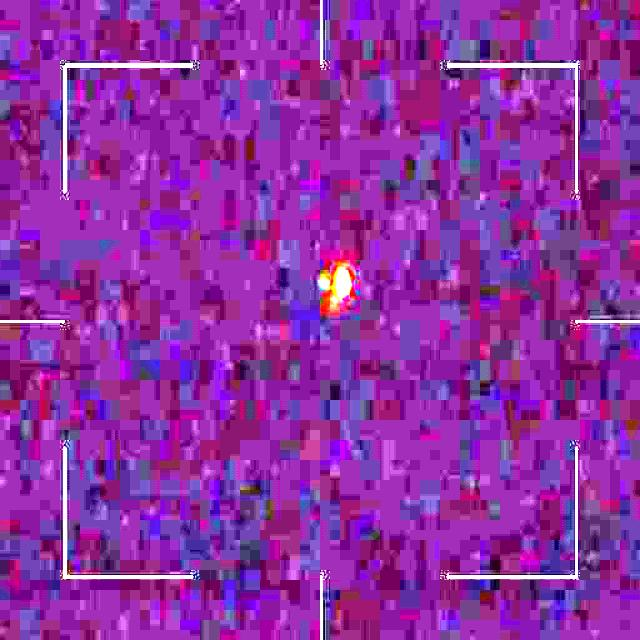bird: (319, 262, 352, 314)
